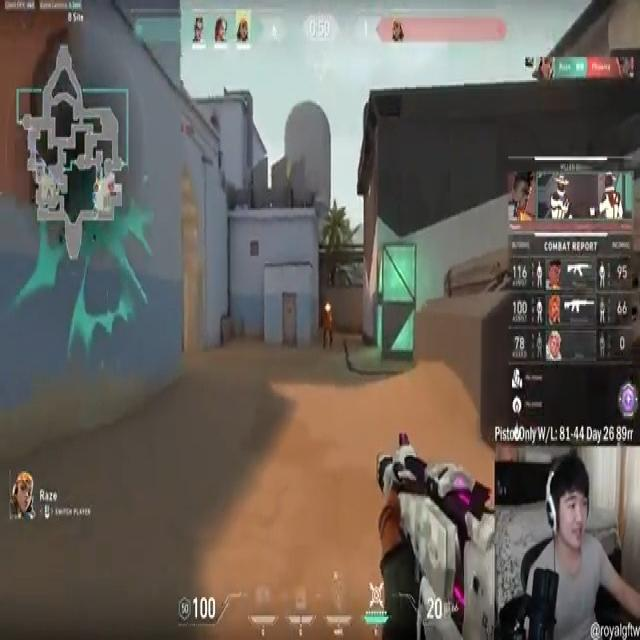enemy: (322, 304, 333, 349)
